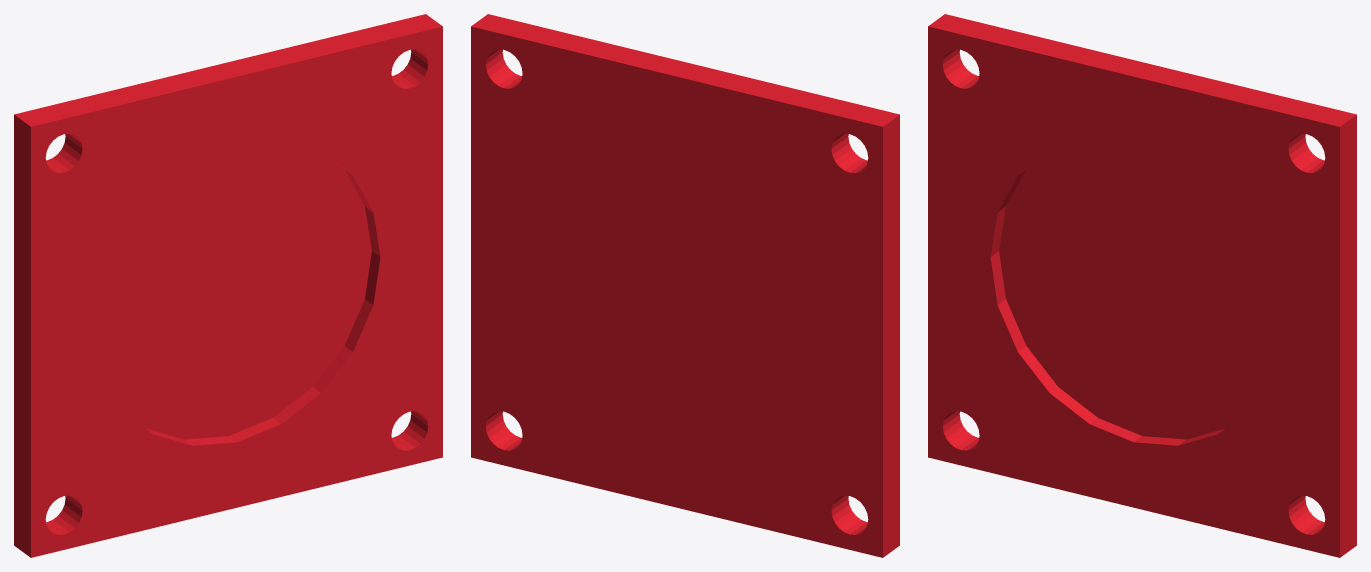
File: tinker.obj
The picture shows the model from 3 angles, left to right: view 1: azimuth 30°, elevation 25°; view 2: azimuth 150°, elevation 25°; view 3: azimuth 330°, elevation 25°; orthographic projection.
Visible parts, largest first — view 1: obj_0; view 2: obj_0; view 3: obj_0.
Boxes of the visible parts, <box> form: obj_0: <box>14,14,442,557</box>; obj_0: <box>471,14,899,557</box>; obj_0: <box>928,14,1356,557</box>.
Size of the model in its own units: 56 by 56 by 4.
